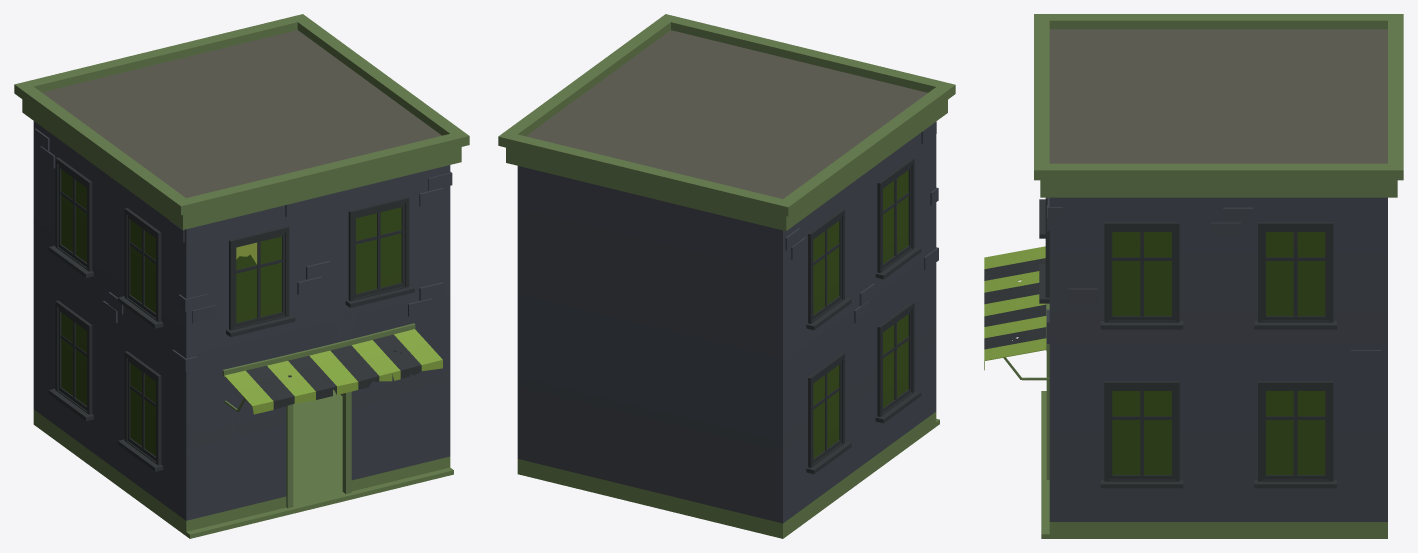
The model's file is House_12.fbx.
The picture shows the model from 3 angles, left to right: view 1: azimuth 30°, elevation 25°; view 2: azimuth 150°, elevation 25°; view 3: azimuth 270°, elevation 25°; orthographic projection. The views are drawn at different scales.
Parts seen in each view (by area): view 1: House_12; view 2: House_12; view 3: House_12.
Part boxes in pixels (x1,y1,x2,y2): House_12: (14,14,469,538); House_12: (498,14,955,538); House_12: (984,14,1403,538).
Bounding box in the file's own units: 4.92 × 5.51 × 5.58.
